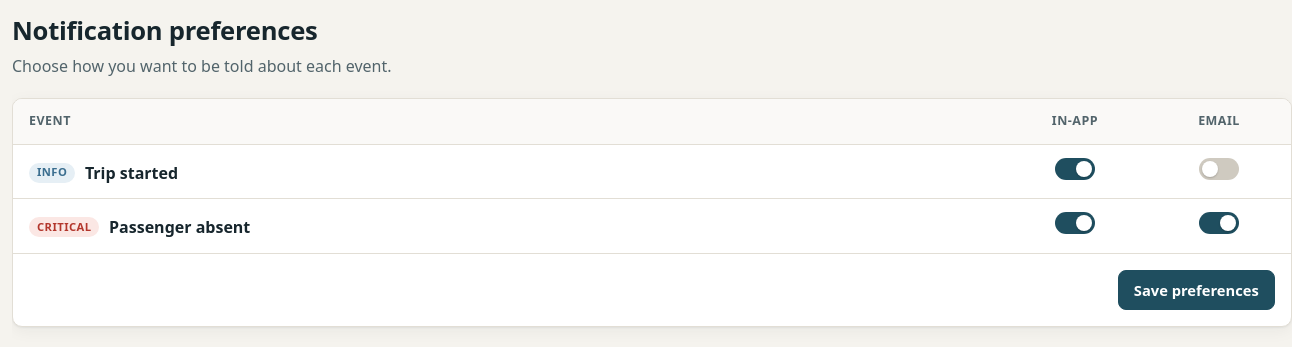
Test: PreferencesPage › reports a save error
The image size is (1292, 347).
Click the button "Save preferences": point(1196, 290) top-left (1118, 270), bottom-right (1275, 310)
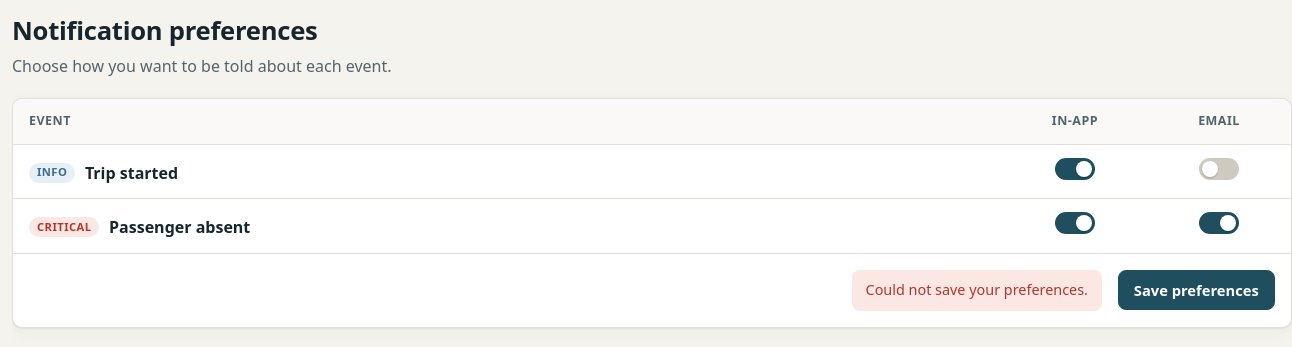
Result: the message reads "Could not save your preferences." at top-left (866, 280), bottom-right (1088, 300)
